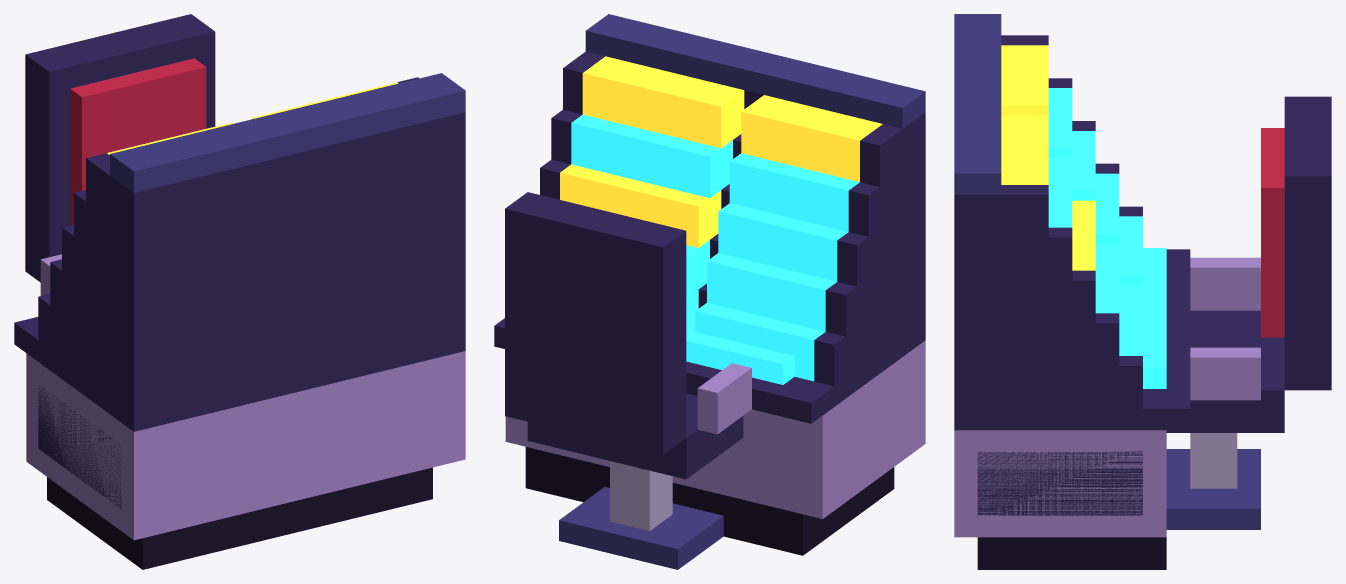
Rendered from console.navigation.sm.glb.
3 renders of one model, left to right at view 1: azimuth 30°, elevation 25°; view 2: azimuth 150°, elevation 25°; view 3: azimuth 270°, elevation 25°, orthographic. The views are drawn at different scales.
Visible parts, largest first — view 1: console.navigation.sm; view 2: console.navigation.sm; view 3: console.navigation.sm.
Boxes of the visible parts, x1=… form: console.navigation.sm: x1=14, y1=14, x2=465, y2=569; console.navigation.sm: x1=494, y1=14, x2=925, y2=569; console.navigation.sm: x1=954, y1=14, x2=1331, y2=569.
Bounding box in the file's own units: 1 × 1.19 × 1.
